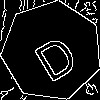D: (26, 26, 81, 84)
